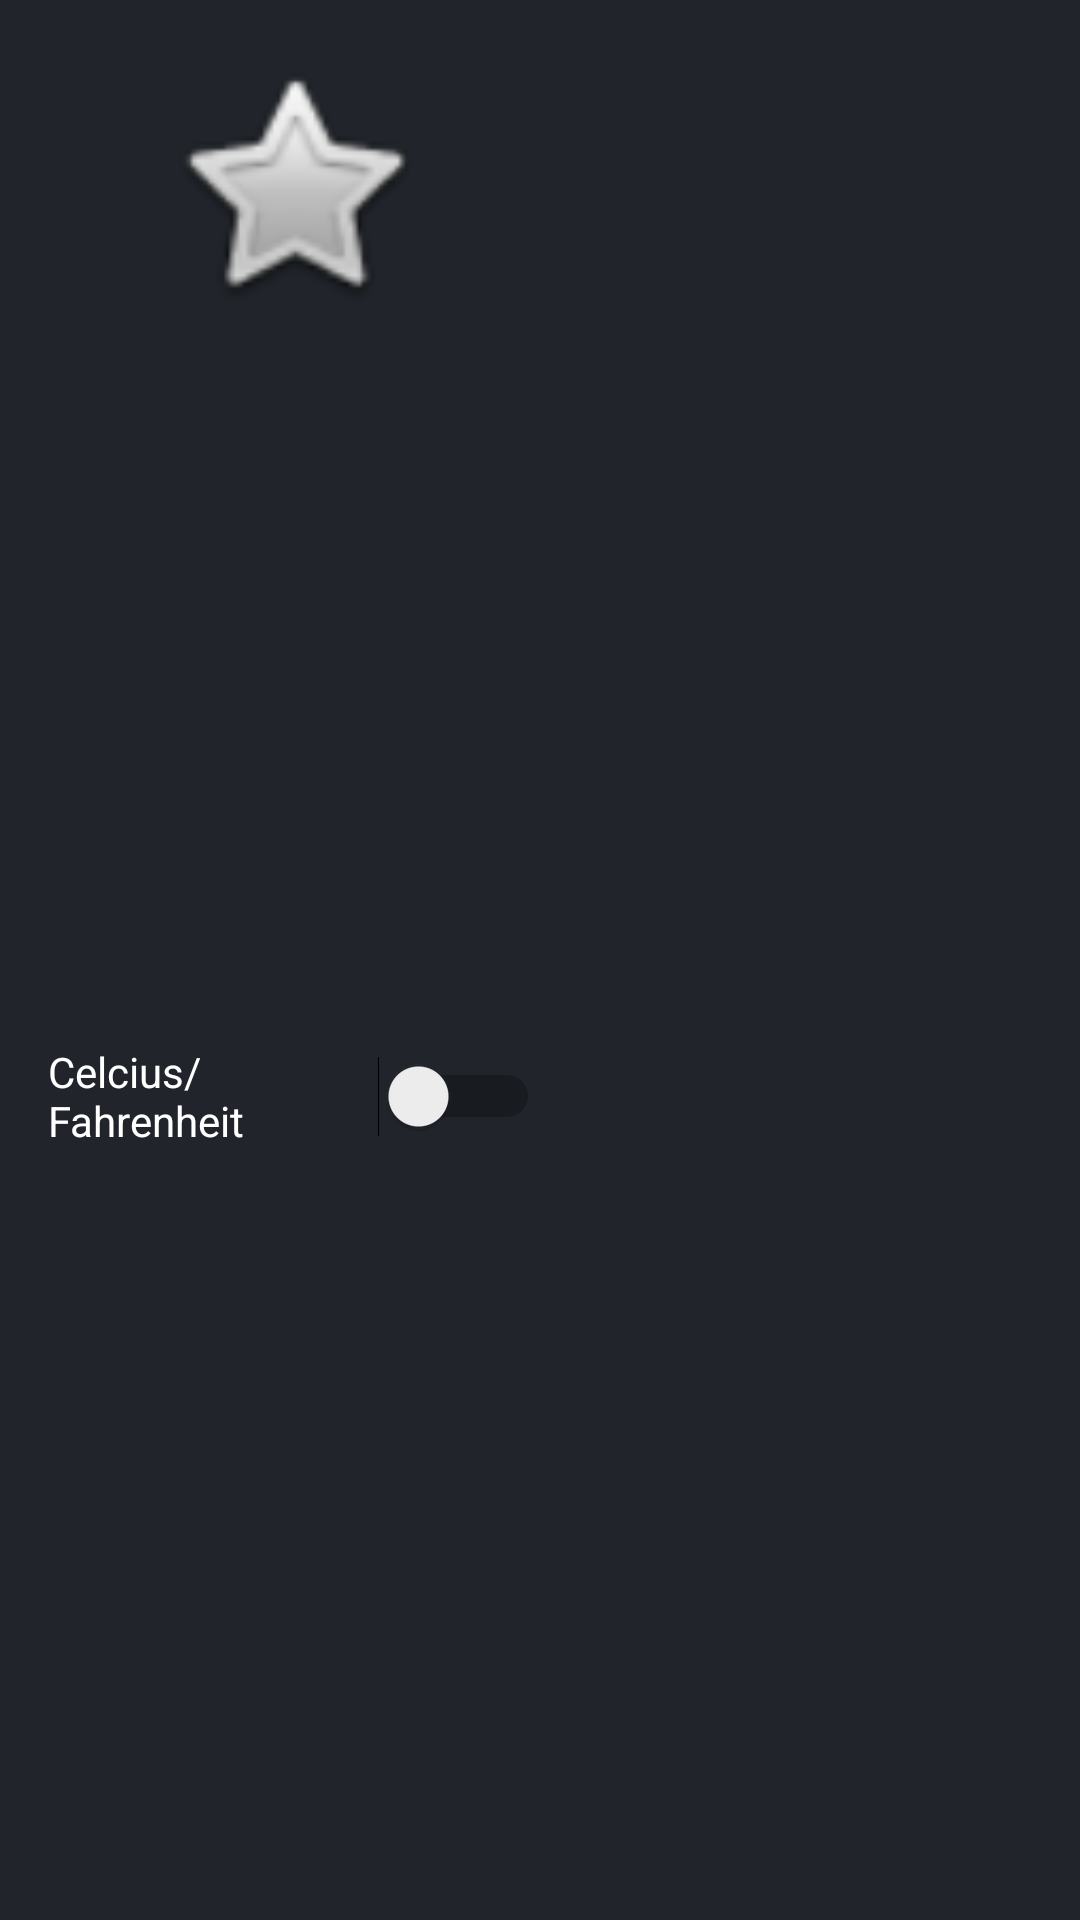

Icon click points for this 1080 x 1920 phone screenshot, format [x,y]:
star off: [296,183]
